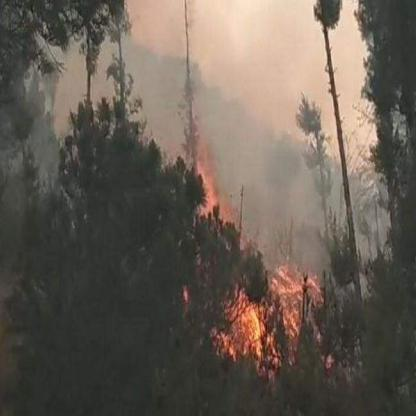fire: (185, 156, 315, 378)
